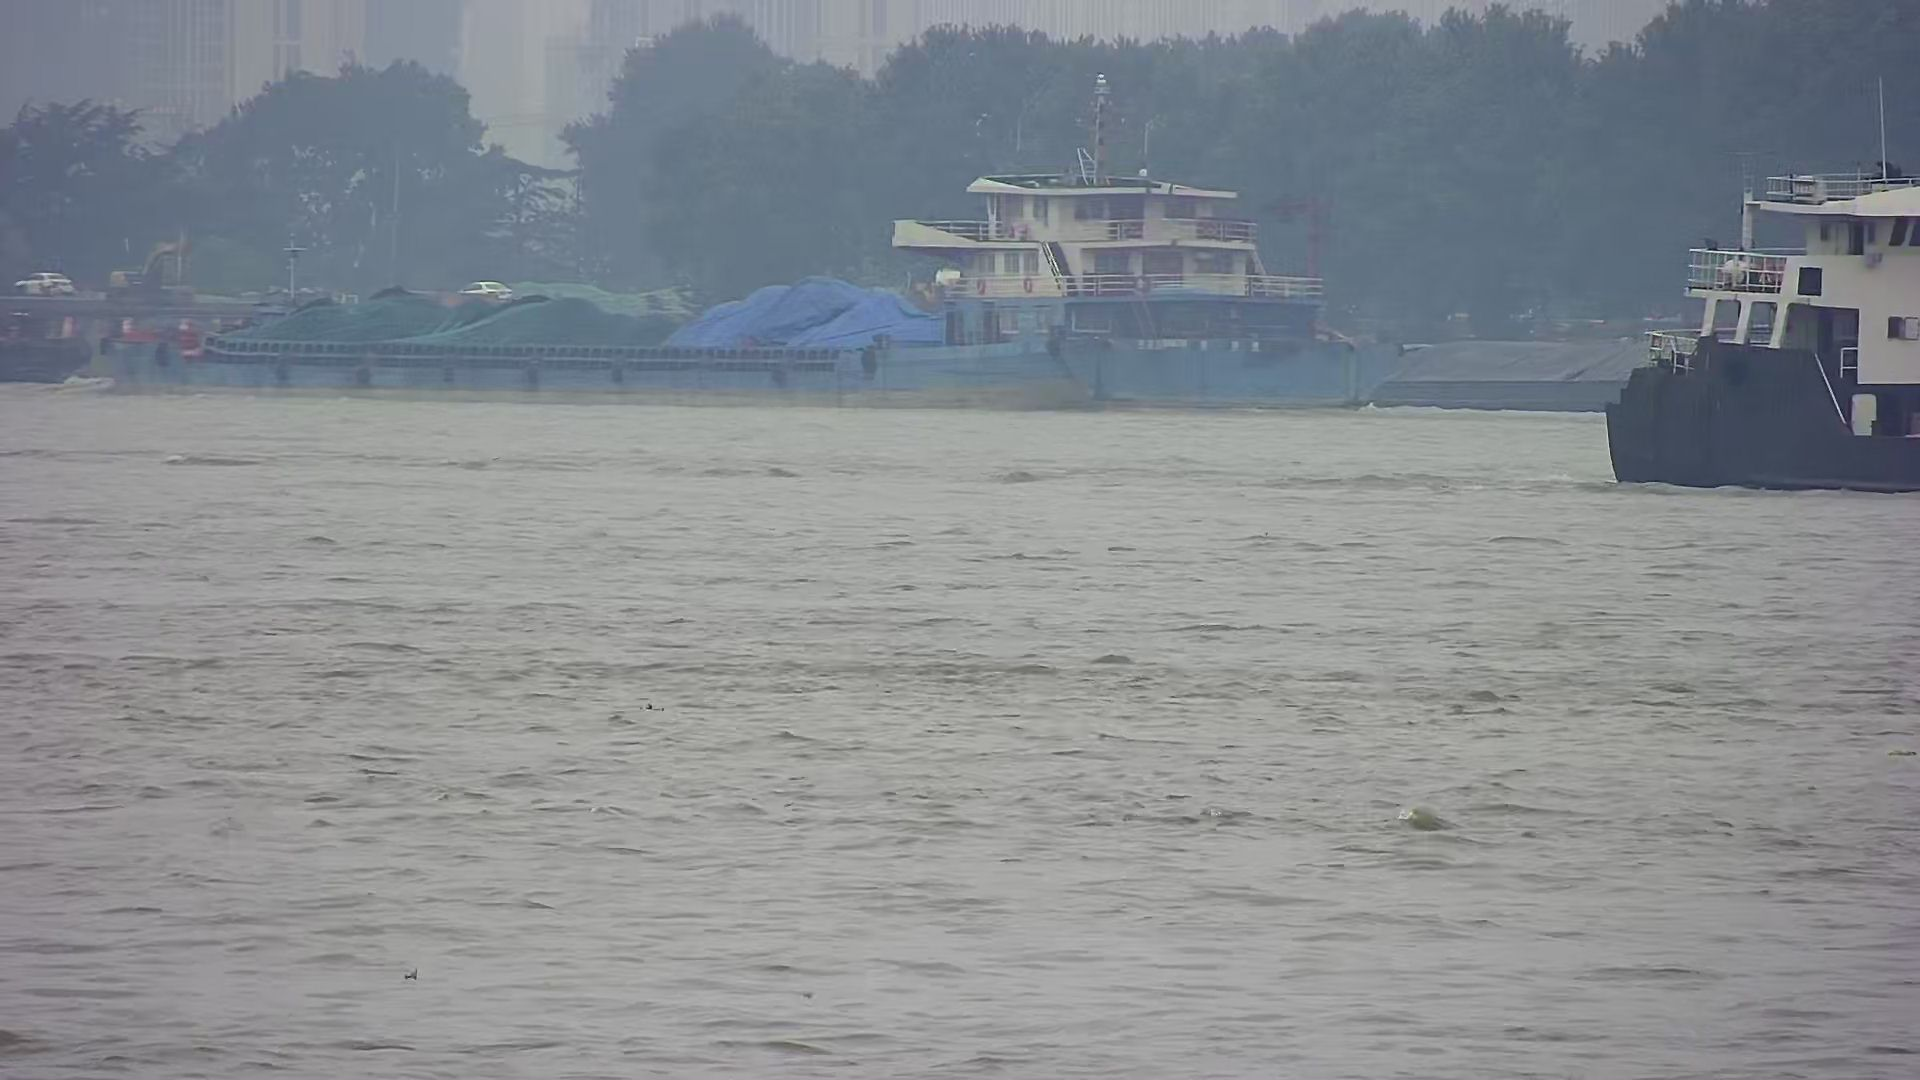ship: (91, 74, 1414, 419), (1575, 67, 1920, 501)
